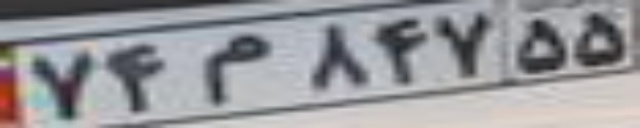4: (104, 43, 170, 111), (374, 18, 429, 84)
5: (514, 18, 568, 73), (571, 11, 625, 65)
7: (31, 49, 94, 118), (438, 11, 491, 78)
8: (307, 23, 370, 89)
mim: (202, 35, 268, 106)
